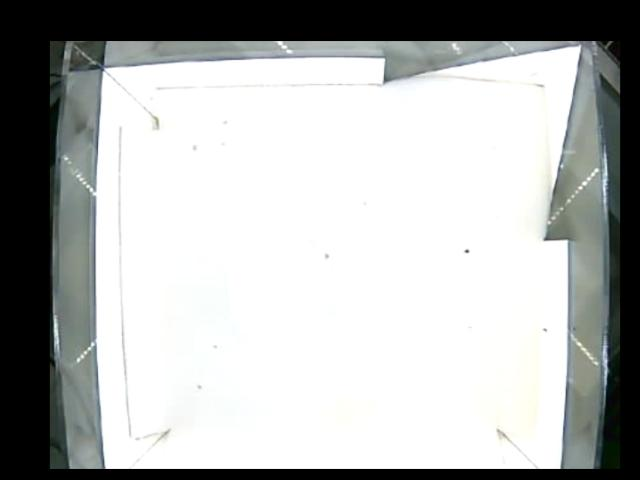Bottle: (228, 232, 334, 343)
